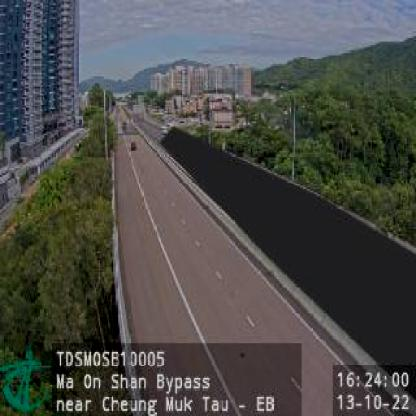Car: (130, 140, 139, 151)
